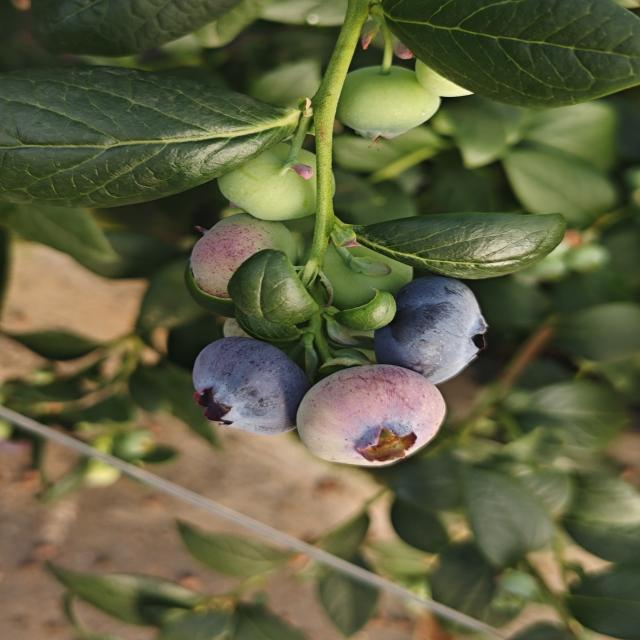ripe: (371, 274, 491, 386), (189, 334, 310, 438)
